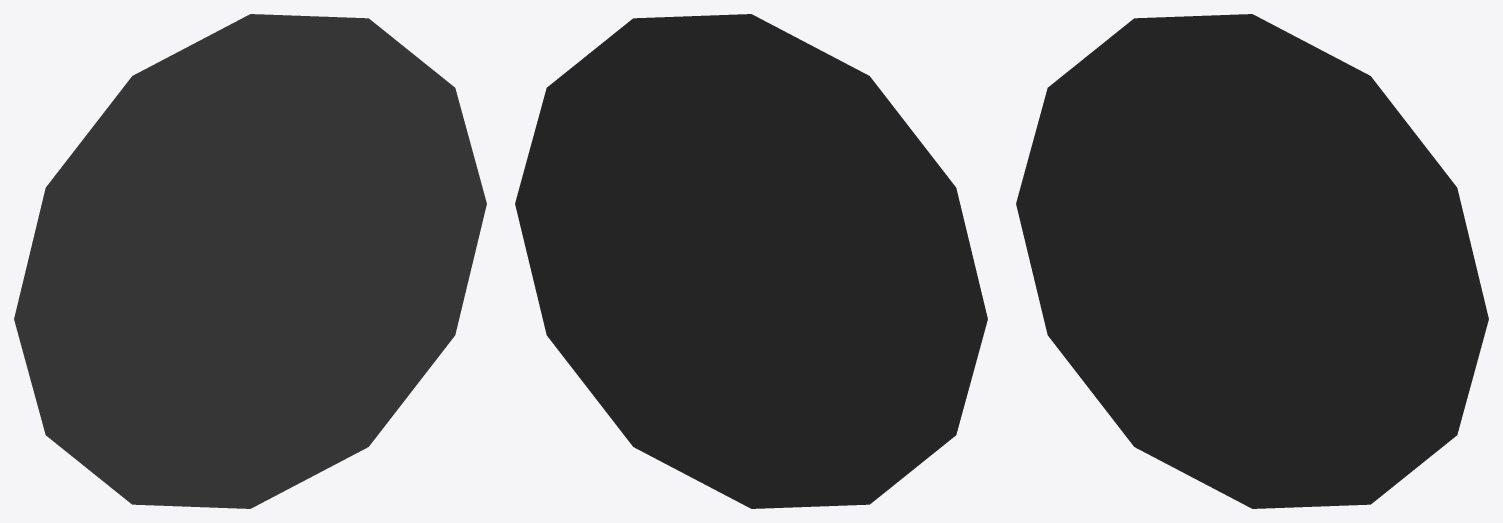
File: 50bd9c625d7a_1_SpherePlane01.glb
3 views of the same model, side by side, from view 1: azimuth 30°, elevation 25°; view 2: azimuth 150°, elevation 25°; view 3: azimuth 330°, elevation 25° (orthographic).
Parts seen in each view (by area): view 1: 50bd9c625d7a_1_SpherePlane01.obj; view 2: 50bd9c625d7a_1_SpherePlane01.obj; view 3: 50bd9c625d7a_1_SpherePlane01.obj.
Boxes of the visible parts, left/top/right/bottom form: 50bd9c625d7a_1_SpherePlane01.obj: left=14, top=14, right=486, bottom=508; 50bd9c625d7a_1_SpherePlane01.obj: left=515, top=14, right=987, bottom=508; 50bd9c625d7a_1_SpherePlane01.obj: left=1016, top=14, right=1488, bottom=508.
Bounding box in the file's own units: 1.03 × 1.03 × 0.
Materials: 1 (1 with a texture image).
